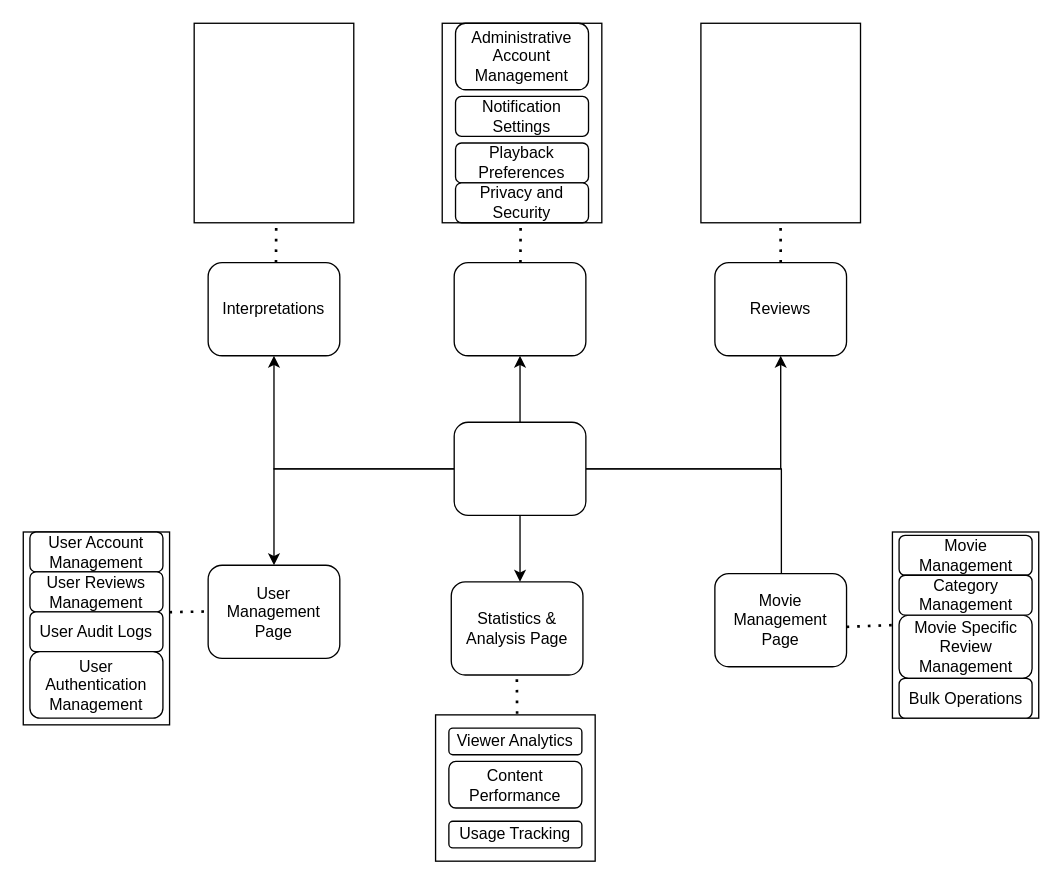
Image size: 1063x884. Some labels were removed from this diagram. The shapes that lost their labels are listed below. From the top down, each one's centre as x and y in pixels, then its label:
(x=519, y=308): Settings Page
(x=519, y=468): Home Page 🏠
